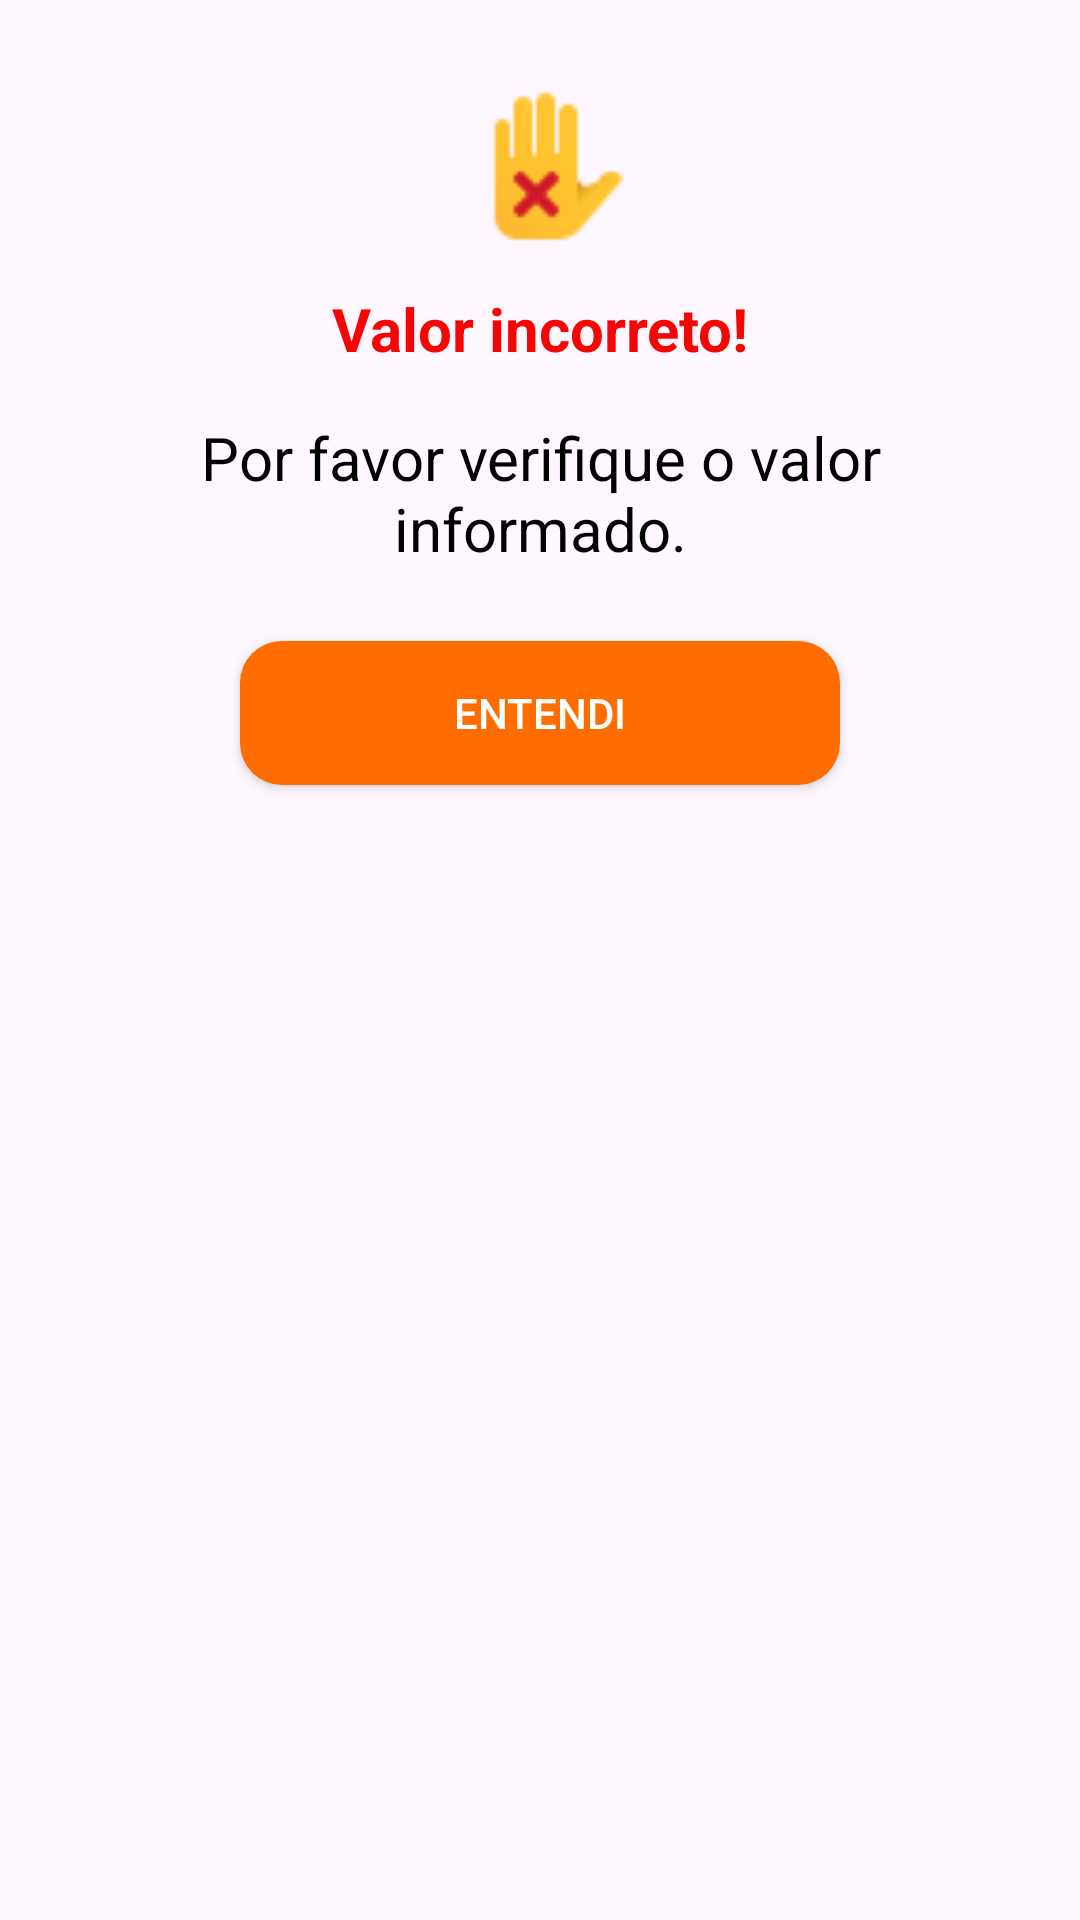

Screen size 1080w x 1920h. Icon name, then its center in pixels as point (x, y):
erro valor: point (559, 166)
